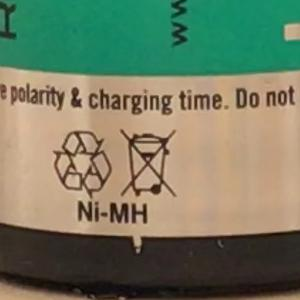NI-MH: (68, 193, 157, 232)
